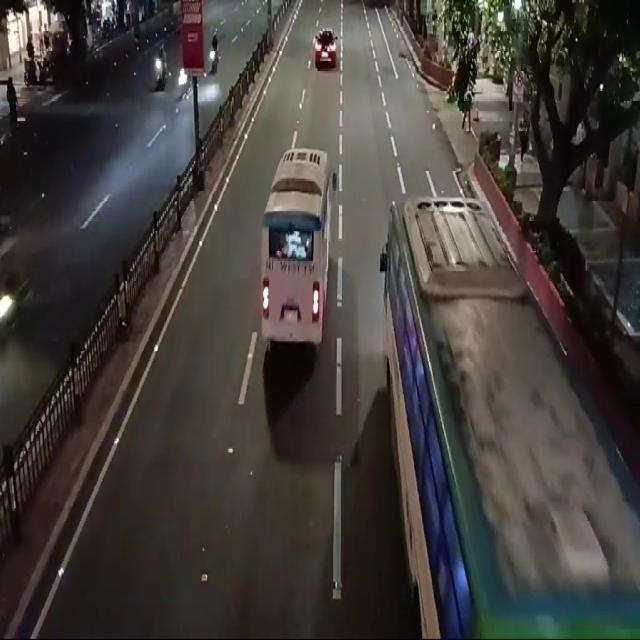bus: (369, 190, 639, 630), (246, 142, 334, 364)
car: (314, 28, 341, 74)
motorcycle: (148, 38, 172, 93)
